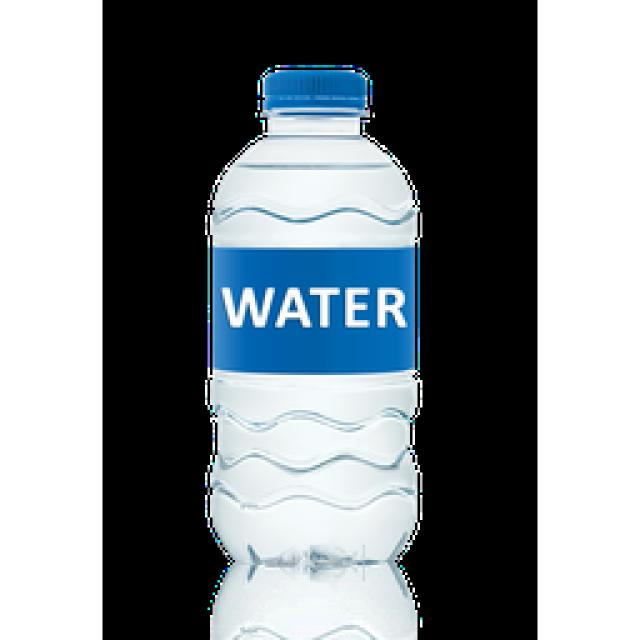plastic_water_bottles: (207, 58, 428, 575)
